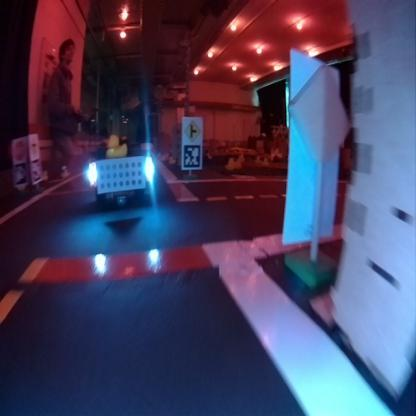Duckie: (106, 135, 127, 157), (225, 157, 233, 170), (61, 167, 68, 176), (235, 158, 241, 168)
Duckiebot: (86, 158, 154, 203)
Intersection sign: (181, 118, 202, 142), (29, 135, 38, 156)
QR code: (184, 145, 202, 166), (13, 164, 28, 184), (30, 159, 42, 182)
Stop sign: (12, 138, 26, 162)
